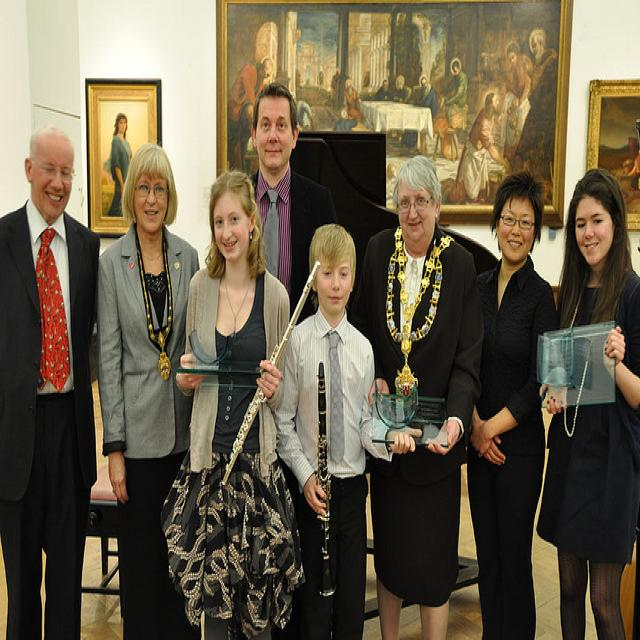clarinet: (314, 362, 341, 598)
